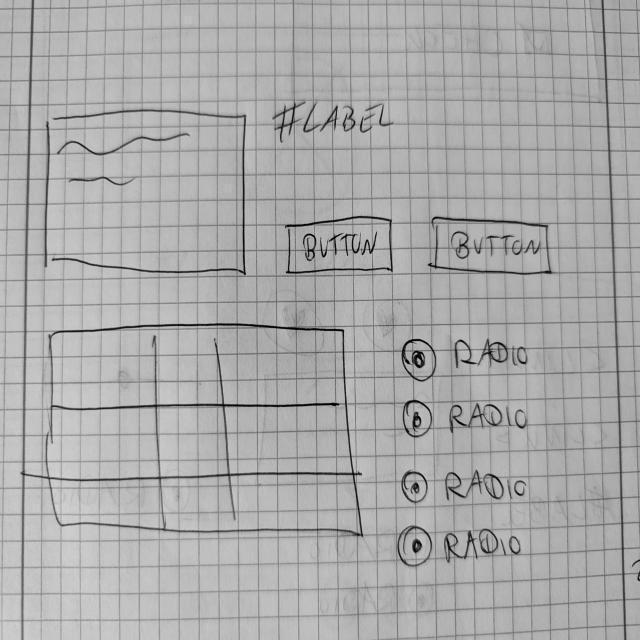button: (430, 212, 556, 282), (283, 213, 398, 280)
label: (273, 96, 398, 144)
radio: (395, 524, 438, 570), (401, 335, 440, 385), (401, 397, 435, 441), (399, 469, 433, 507)
table: (46, 319, 366, 543)
textarea: (42, 108, 253, 284)
